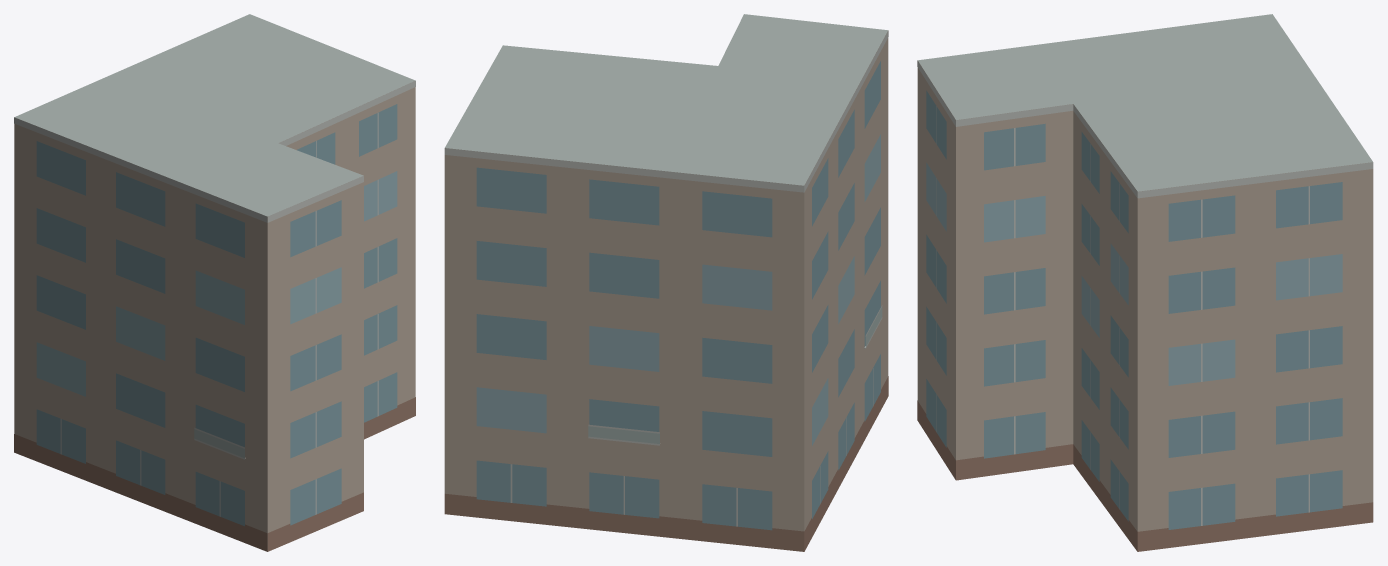
File: survey-upis-32598599.glb
The picture shows the model from 3 angles, left to right: view 1: azimuth 30°, elevation 25°; view 2: azimuth 150°, elevation 25°; view 3: azimuth 270°, elevation 25°; orthographic projection. The views are drawn at different scales.
Visible parts, largest first — view 1: survey-upis-32598599.tmp; view 2: survey-upis-32598599.tmp; view 3: survey-upis-32598599.tmp.
Boxes of the visible parts, left/top/right/bottom form: survey-upis-32598599.tmp: left=14, top=14, right=415, bottom=551; survey-upis-32598599.tmp: left=444, top=14, right=888, bottom=551; survey-upis-32598599.tmp: left=917, top=14, right=1373, bottom=551.
Size of the model in its own units: 13.7 by 12.95 by 14.86.
